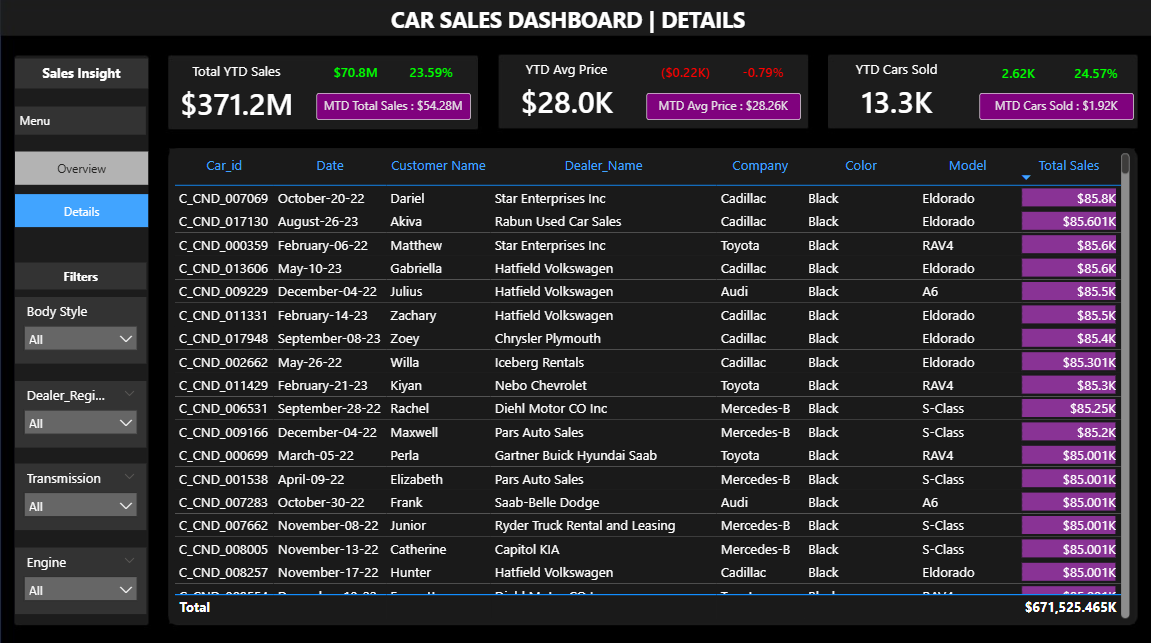

The dashboard page shown, as its layout file describes it:
{"tool":"powerbi","page":{"name":"Details","canvas":[1280,720],"ordinal":1},"visuals":[{"type":"card","title":"Total YTD Sales","fields":{"Values":["car_data.YTD Total Sales"]},"box":[188.9,67.8,148.9,72.2],"z":0},{"type":"card","fields":{"Values":["car_data.Sales Difference"]},"box":[350.9,65.5,86.4,32.7],"z":1000},{"type":"card","fields":{"Values":["car_data.YOY Sales Growth"]},"box":[437.3,65.5,84.5,32.7],"z":2000},{"type":"card","fields":{"Values":["car_data.MTD KPI"]},"box":[351,104,171,30],"z":3000},{"type":"card","title":"YTD Avg Price","fields":{"Values":["car_data.YTD Average Price"]},"box":[555,67,149,72],"z":4000},{"type":"card","fields":{"Values":["car_data.Avg Price Diff"]},"box":[719,65,86,33],"z":5000},{"type":"card","fields":{"Values":["car_data.YOY Avg Price Growth"]},"box":[805,65,85,33],"z":6000},{"type":"card","fields":{"Values":["car_data.MTD Price KPI"]},"box":[719,104,171,30],"z":7000},{"type":"card","title":"YTD Cars Sold","fields":{"Values":["car_data.YTD Cars Sold"]},"box":[921,67,149,72],"z":8000},{"type":"card","fields":{"Values":["car_data.Cars Sold Diff"]},"box":[1088.3,67,86,33],"z":9000},{"type":"card","fields":{"Values":["car_data.YOY Cars Sold"]},"box":[1174.3,67,85,33],"z":10000},{"type":"card","fields":{"Values":["car_data.MTD Cars Sold KPI"]},"box":[1088,104,171,30],"z":11000},{"type":"textbox","box":[141.5,0,979.2,42.3],"z":12000},{"type":"slicer","fields":{"Values":["car_data.Body Style"]},"box":[17.1,330,145.7,74.3],"z":13000},{"type":"slicer","fields":{"Values":["car_data.Dealer_Region"]},"box":[17.1,422.9,145.7,74.3],"z":14000},{"type":"slicer","fields":{"Values":["car_data.Transmission"]},"box":[17.1,515.7,145.7,74.3],"z":15000},{"type":"slicer","fields":{"Values":["car_data.Engine"]},"box":[17.1,608.6,145.7,74.3],"z":16000},{"type":"textbox","box":[17.1,291.4,145.7,30],"z":17000},{"type":"tableEx","fields":{"Values":["car_data.Car_id","car_data.Date","car_data.Customer Name","car_data.Dealer_Name","car_data.Company","car_data.Color","car_data.Model","car_data.Price ($)"]},"box":[188.6,165.7,1071.4,527.1],"z":18000},{"type":"pageNavigator","box":[16.7,168.7,148,84],"z":19000},{"type":"textbox","box":[16.7,118.9,145.6,31.1],"z":20000},{"type":"textbox","box":[16.7,64.4,147.8,33.3],"z":21000}]}

Visuals, with their boxes on the page's 1280x720 design canvas (x1, y1, x2, y2). These are canvas units, not pixel positions in the 1151x643 screenshot, which may show the page scaled, cropped or inside an application window:
"Total YTD Sales" card: 189,68,338,140
card - car_data.Sales Difference: 351,66,437,98
card - car_data.YOY Sales Growth: 437,66,522,98
card - car_data.MTD KPI: 351,104,522,134
"YTD Avg Price" card: 555,67,704,139
card - car_data.Avg Price Diff: 719,65,805,98
card - car_data.YOY Avg Price Growth: 805,65,890,98
card - car_data.MTD Price KPI: 719,104,890,134
"YTD Cars Sold" card: 921,67,1070,139
card - car_data.Cars Sold Diff: 1088,67,1174,100
card - car_data.YOY Cars Sold: 1174,67,1259,100
card - car_data.MTD Cars Sold KPI: 1088,104,1259,134
textbox: 142,0,1121,42
slicer - car_data.Body Style: 17,330,163,404
slicer - car_data.Dealer_Region: 17,423,163,497
slicer - car_data.Transmission: 17,516,163,590
slicer - car_data.Engine: 17,609,163,683
textbox: 17,291,163,321
tableEx - car_data.Car_id x car_data.Date: 189,166,1260,693
pageNavigator: 17,169,165,253
textbox: 17,119,162,150
textbox: 17,64,164,98
